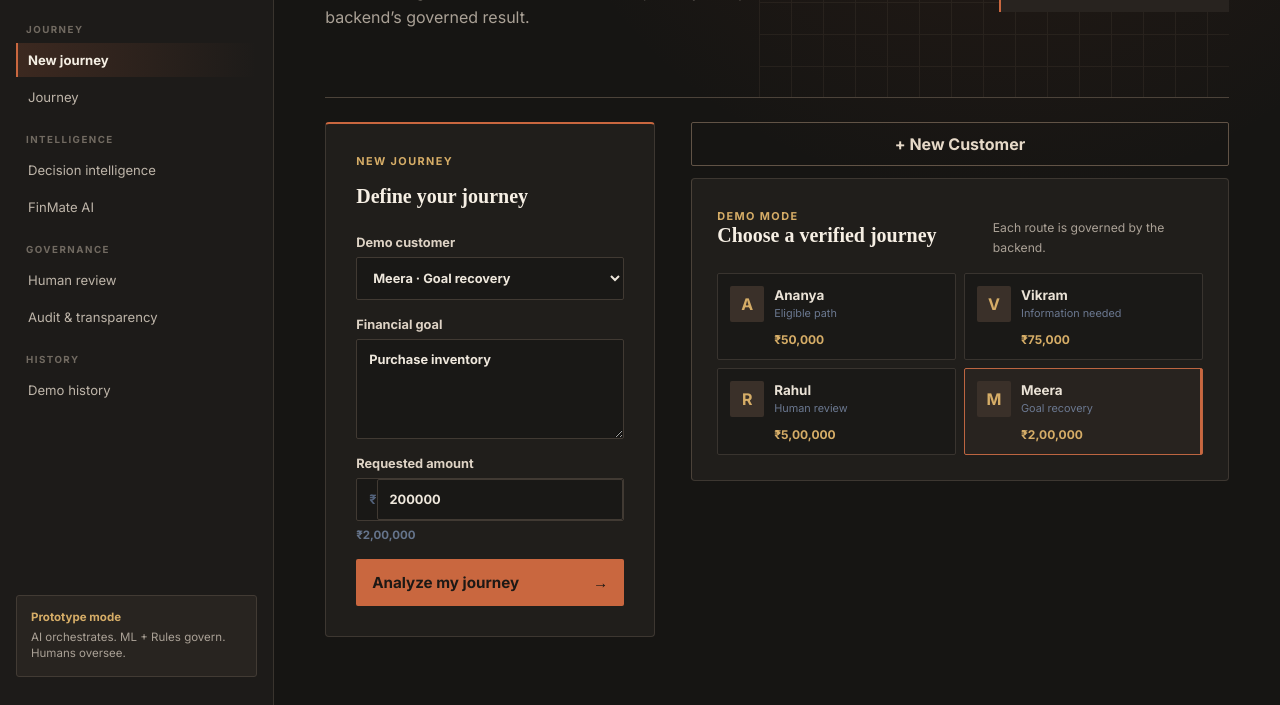
Test: FinMate journey UI › renders personalized recovery copy without old pathway UI or raw SHAP names
(page scrolled)
Click the button "Analyze my journey →" at (490, 582), box [356,559,624,606]
(page scrolled)
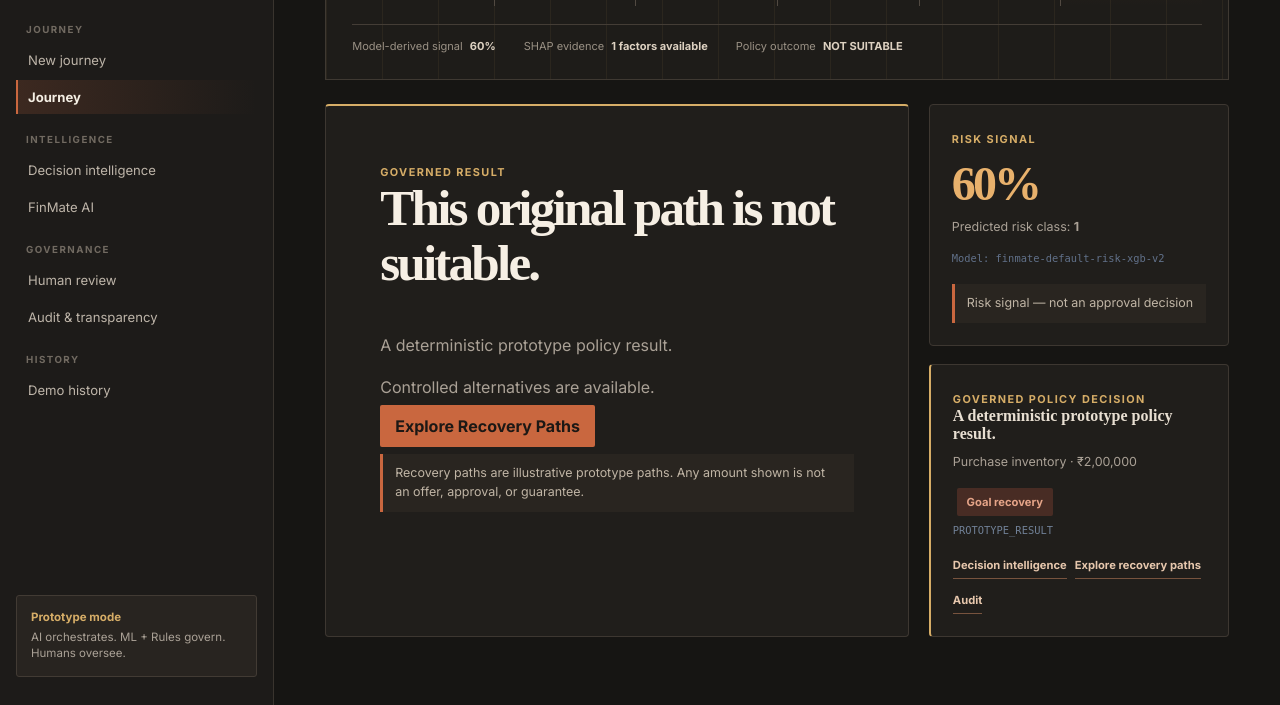
Click the link "Explore Recovery Paths" at (488, 426), box [380,405,595,447]
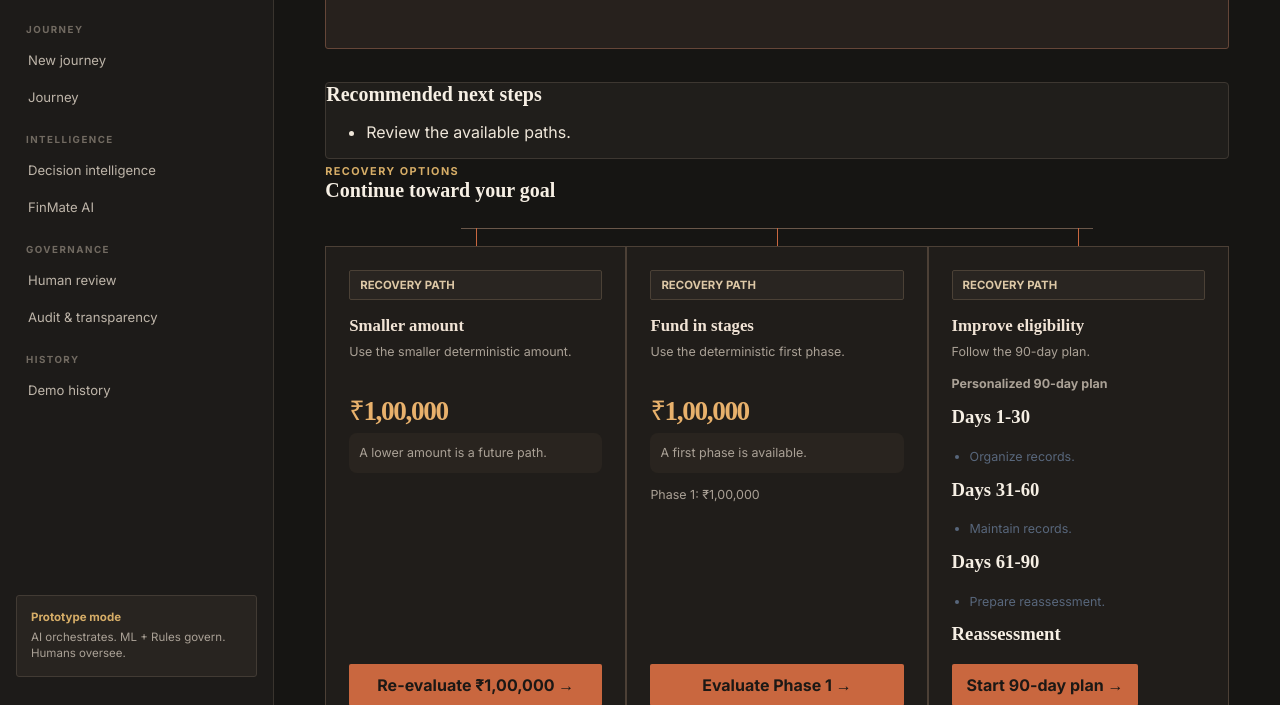
Now the heading "Fund in stages" is shown, box [650,316,754,335]
Now the heading "Improve eligibility" is shown, box [952,316,1084,335]
Now the heading "Days 1-30" is shown, box [952,406,1030,427]
